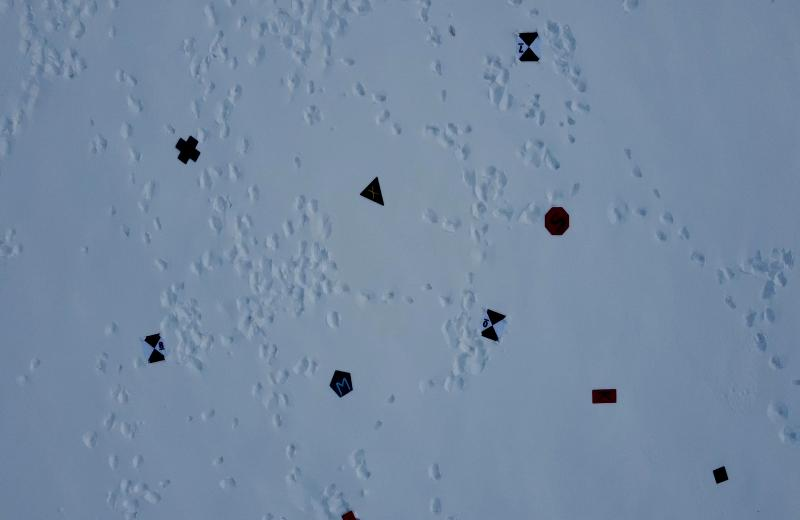Cross: (172, 132, 204, 166)
Octagon: (545, 199, 575, 237)
Pentagon: (326, 365, 356, 400)
Rectangle: (590, 383, 620, 417)
Square: (710, 465, 734, 489)
Triangle: (357, 175, 389, 209)
